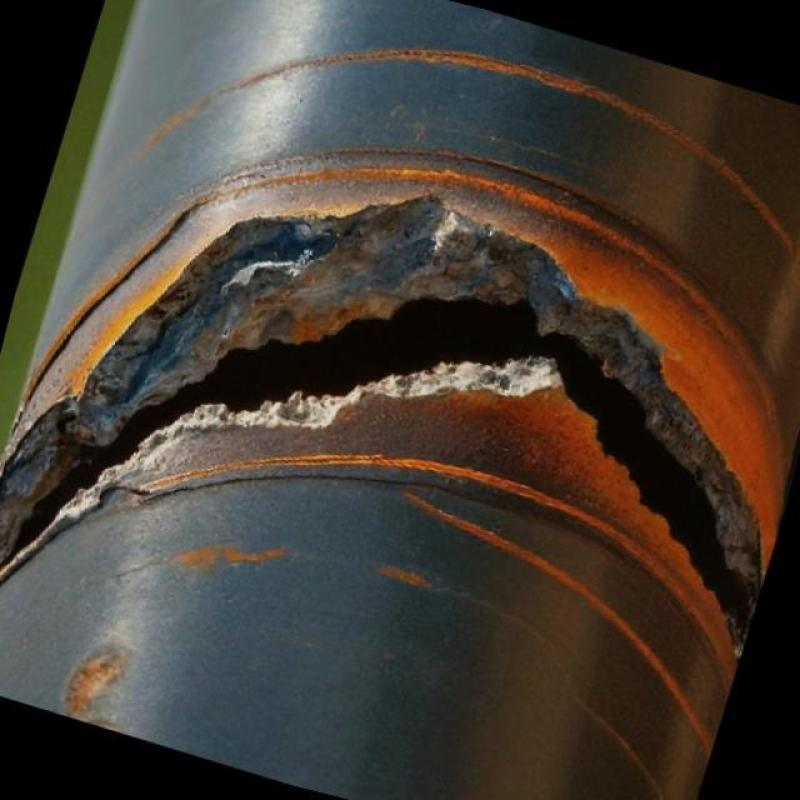Fracture: (0, 184, 792, 544)
